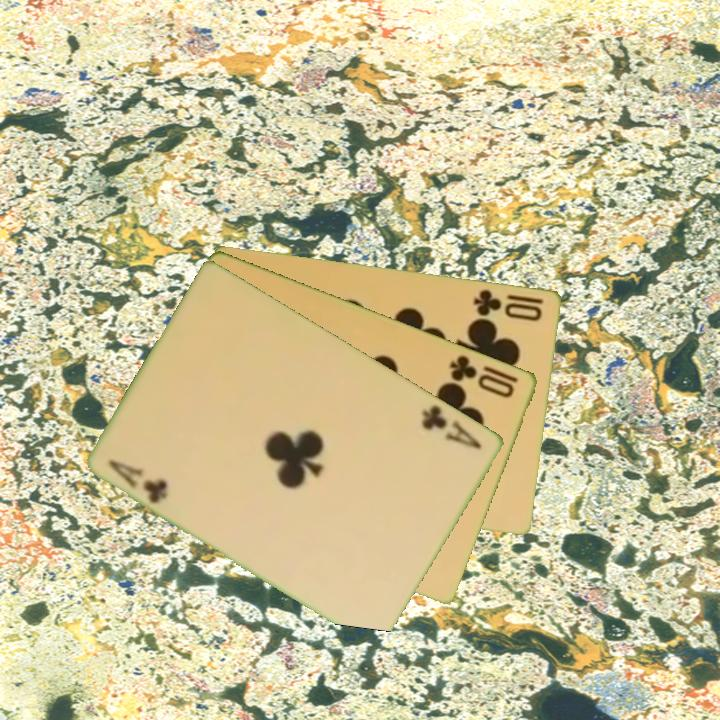10c: (446, 351, 518, 401), (471, 285, 545, 324)
Ac: (105, 455, 172, 507), (418, 401, 486, 452)
